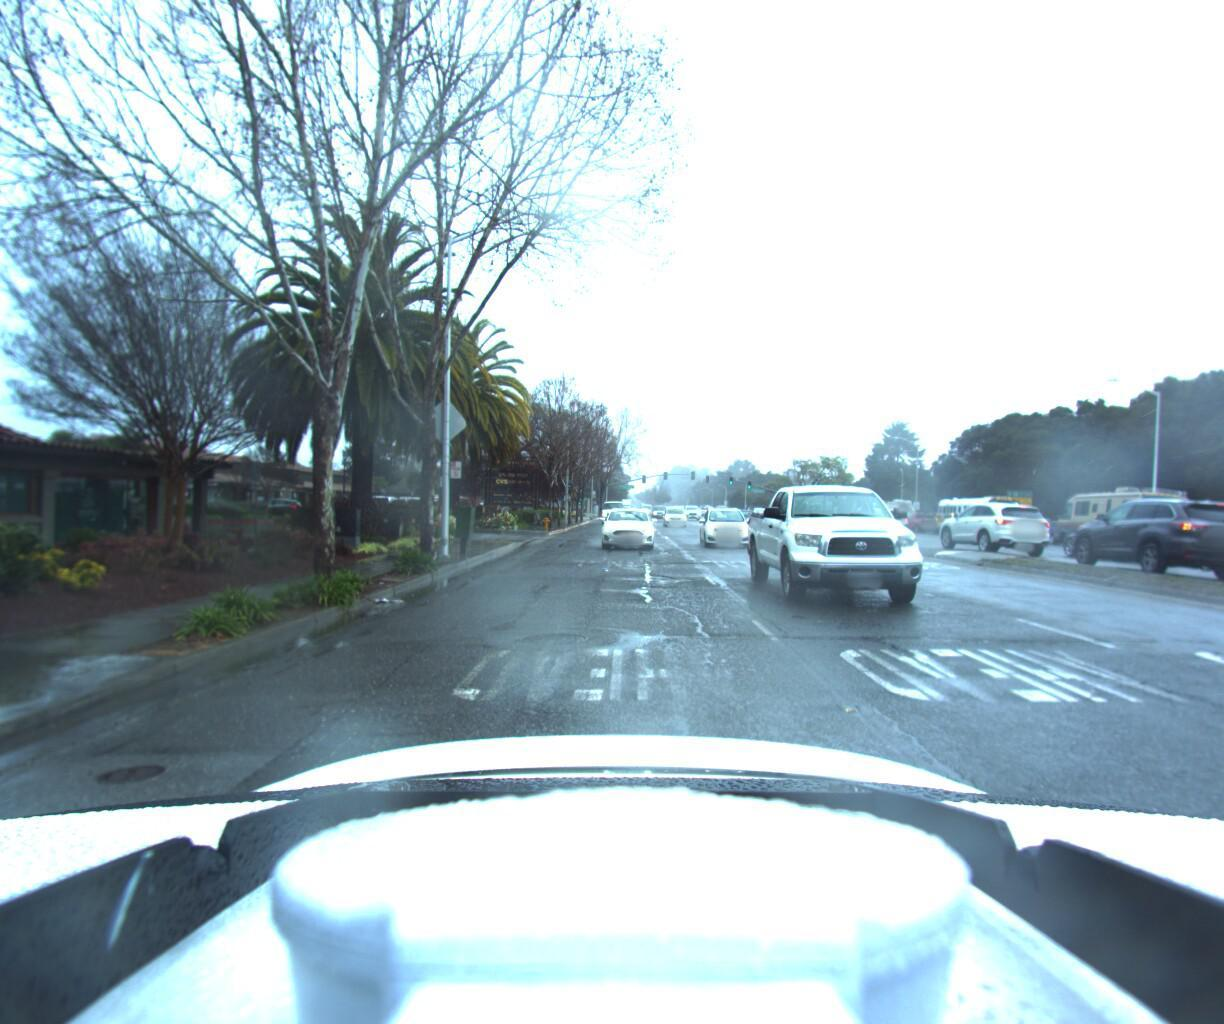bus: (925, 491, 1020, 540)
car: (746, 470, 969, 622), (1056, 496, 1224, 583), (929, 498, 1053, 555), (1045, 520, 1174, 562), (694, 504, 757, 551), (1175, 510, 1224, 566), (598, 504, 653, 552), (897, 509, 943, 534), (599, 501, 626, 524), (661, 504, 689, 526), (745, 508, 773, 524)
other_vehicle: (1046, 482, 1194, 556), (867, 496, 919, 531)
